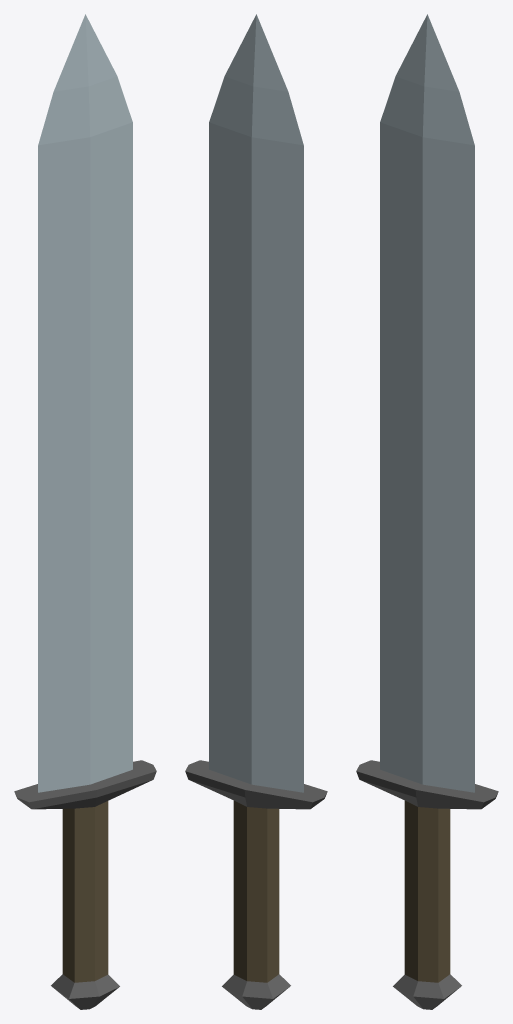
File: LP_sword.fbx
3 renders of one model, left to right at view 1: azimuth 30°, elevation 25°; view 2: azimuth 150°, elevation 25°; view 3: azimuth 330°, elevation 25°, orthographic.
Parts seen in each view (by area): view 1: Sword; view 2: Sword; view 3: Sword.
Boxes of the visible parts, box(x1,y1,x2,y2) form: Sword: box(14, 14, 156, 1009); Sword: box(185, 14, 327, 1009); Sword: box(356, 14, 498, 1009).
Size of the model in its own units: 11.47 by 80.21 by 4.18.
1 material, 1 textured.
